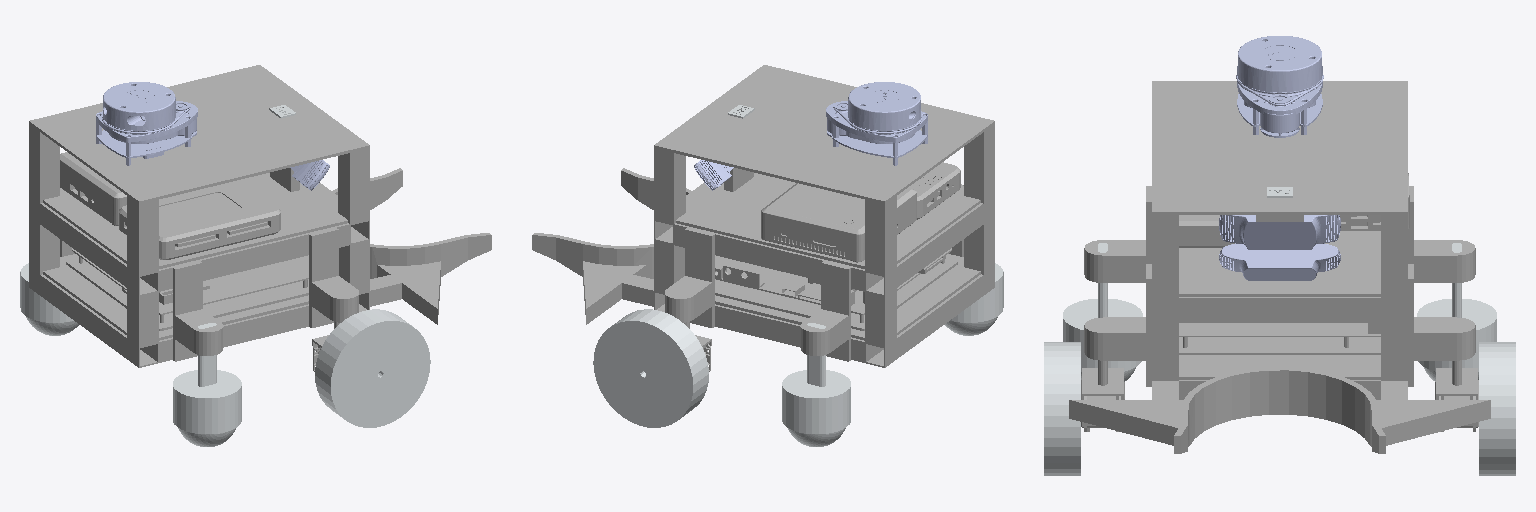
URDF robot description (lide):
<?xml version="1.0" encoding="utf-8"?>
<!-- This URDF was automatically created by SolidWorks to URDF Exporter! Originally created by [author] ([email redacted]) 
     Commit Version: 1.5.1-0-g916b5db  Build Version: 1.5.7152.31018
     For more information, please see http://wiki.ros.org/sw_urdf_exporter -->
<robot
  name="lide">
  <link
    name="base_link">
    <inertial>
      <origin
        xyz="-0.123905080916601 0.0849038994359379 0.0505995438981258"
        rpy="0 0 0" />
      <mass
        value="2.91428056653758" />
      <inertia
        ixx="0.00617409122645341"
        ixy="-7.15450905274627E-07"
        ixz="-1.26542370052897E-05"
        iyy="0.00553452148968598"
        iyz="-3.51329121715535E-07"
        izz="0.0110503775267064" />
    </inertial>
    <visual>
      <origin
        xyz="0 0 0"
        rpy="0 0 0" />
      <geometry>
        <mesh
          filename="package://lide/meshes/base_link.STL" />
      </geometry>
      <material
        name="">
        <color
          rgba="0.752941176470588 0.752941176470588 0.752941176470588 1" />
      </material>
    </visual>
    <collision>
      <origin
        xyz="0 0 0"
        rpy="0 0 0" />
      <geometry>
        <mesh
          filename="package://lide/meshes/base_link.STL" />
      </geometry>
    </collision>
  </link>
  <link
    name="LFS">
    <inertial>
      <origin
        xyz="0.0455604268709419 -0.0546933148939941 0.00297622851896683"
        rpy="0 0 0" />
      <mass
        value="0.0727928435161986" />
      <inertia
        ixx="2.20927876796312E-05"
        ixy="-1.64845302056394E-08"
        ixz="-1.56454773175215E-07"
        iyy="1.62632133784213E-05"
        iyz="2.9641187651118E-09"
        izz="1.80843397531752E-05" />
    </inertial>
    <visual>
      <origin
        xyz="0 0 0"
        rpy="0 0 0" />
      <geometry>
        <mesh
          filename="package://lide/meshes/LFS.STL" />
      </geometry>
      <material
        name="">
        <color
          rgba="0.752941176470588 0.752941176470588 0.752941176470588 1" />
      </material>
    </visual>
    <collision>
      <origin
        xyz="0 0 0"
        rpy="0 0 0" />
      <geometry>
        <mesh
          filename="package://lide/meshes/LFS.STL" />
      </geometry>
    </collision>
  </link>
  <joint
    name="LFS"
    type="prismatic">
    <origin
      xyz="-0.0540436140506676 0.182406433684605 0.0265000000000001"
      rpy="1.5707963267949 0 1.5707963267949" />
    <parent
      link="base_link" />
    <child
      link="LFS" />
    <axis
      xyz="0 1 0" />
    <limit
      lower="0"
      upper="0"
      effort="0"
      velocity="0" />
  </joint>
  <link
    name="LFW">
    <inertial>
      <origin
        xyz="0.015 0 3.46944695195361E-18"
        rpy="0 0 0" />
      <mass
        value="0.767080911081153" />
      <inertia
        ixx="0.00116426102407189"
        ixy="4.45758864315272E-22"
        ixz="-1.82994146746971E-20"
        iyy="0.000639661580367031"
        iyz="-1.35525271560688E-20"
        izz="0.000639661580367032" />
    </inertial>
    <visual>
      <origin
        xyz="0 0 0"
        rpy="0 0 0" />
      <geometry>
        <mesh
          filename="package://lide/meshes/LFW.STL" />
      </geometry>
      <material
        name="">
        <color
          rgba="0.898039215686275 0.917647058823529 0.929411764705882 1" />
      </material>
    </visual>
    <collision>
      <origin
        xyz="0 0 0"
        rpy="0 0 0" />
      <geometry>
        <mesh
          filename="package://lide/meshes/LFW.STL" />
      </geometry>
    </collision>
  </link>
  <joint
    name="LFW"
    type="continuous">
    <origin
      xyz="0.0633463599631527 -0.0698007864376269 0.0150436140506676"
      rpy="-1.62639053095063 0 0" />
    <parent
      link="LFS" />
    <child
      link="LFW" />
    <axis
      xyz="1 0 0" />
    <limit
      effort="3.1"
      velocity="7" />
  </joint>
  <link
    name="RFS">
    <inertial>
      <origin
        xyz="-0.0191828308457407 -0.054724936878019 0.0520056318885905"
        rpy="0 0 0" />
      <mass
        value="0.0727928435161986" />
      <inertia
        ixx="2.20927876796313E-05"
        ixy="-1.6484530205632E-08"
        ixz="1.56454773175213E-07"
        iyy="1.62632133784213E-05"
        iyz="-2.96411876510424E-09"
        izz="1.80843397531752E-05" />
    </inertial>
    <visual>
      <origin
        xyz="0 0 0"
        rpy="0 0 0" />
      <geometry>
        <mesh
          filename="package://lide/meshes/RFS.STL" />
      </geometry>
      <material
        name="">
        <color
          rgba="0.752941176470588 0.752941176470588 0.752941176470588 1" />
      </material>
    </visual>
    <collision>
      <origin
        xyz="0 0 0"
        rpy="0 0 0" />
      <geometry>
        <mesh
          filename="package://lide/meshes/RFS.STL" />
      </geometry>
    </collision>
  </link>
  <joint
    name="RFS"
    type="prismatic">
    <origin
      xyz="-0.103073017420291 -0.0427840297098062 0.0265"
      rpy="1.5707963267949 0 1.5707963267949" />
    <parent
      link="base_link" />
    <child
      link="RFS" />
    <axis
      xyz="0 1 0" />
    <limit
      lower="0"
      upper="0"
      effort="0"
      velocity="0" />
  </joint>
  <link
    name="RFW">
    <inertial>
      <origin
        xyz="-0.015 0 0"
        rpy="0 0 0" />
      <mass
        value="0.767080911081152" />
      <inertia
        ixx="0.00116426102407189"
        ixy="-1.2315168370675E-36"
        ixz="4.60638074444741E-39"
        iyy="0.000639661580367031"
        iyz="8.00462841683581E-39"
        izz="0.000639661580367031" />
    </inertial>
    <visual>
      <origin
        xyz="0 0 0"
        rpy="0 0 0" />
      <geometry>
        <mesh
          filename="package://lide/meshes/RFW.STL" />
      </geometry>
      <material
        name="">
        <color
          rgba="0.898039215686275 0.917647058823529 0.929411764705882 1" />
      </material>
    </visual>
    <collision>
      <origin
        xyz="0 0 0"
        rpy="0 0 0" />
      <geometry>
        <mesh
          filename="package://lide/meshes/RFW.STL" />
      </geometry>
    </collision>
  </link>
  <joint
    name="RFW"
    type="continuous">
    <origin
      xyz="-0.0369687639379516 -0.0697992135623731 0.0640730174202912"
      rpy="0 0 0" />
    <parent
      link="RFS" />
    <child
      link="RFW" />
    <axis
      xyz="1 0 0" />
    <limit
      effort="3.1"
      velocity="7" />
  </joint>
  <link
    name="LBS">
    <inertial>
      <origin
        xyz="-4.7988246709707E-10 -0.0360357103914947 -1.16815018769145E-09"
        rpy="0 0 0" />
      <mass
        value="0.083535872081433" />
      <inertia
        ixx="7.72968060896301E-05"
        ixy="-8.60478073467301E-13"
        ixz="1.40586674043926E-13"
        iyy="5.13820931926883E-05"
        iyz="-5.06559896269576E-12"
        izz="7.73952626484254E-05" />
    </inertial>
    <visual>
      <origin
        xyz="0 0 0"
        rpy="0 0 0" />
      <geometry>
        <mesh
          filename="package://lide/meshes/LBS.STL" />
      </geometry>
      <material
        name="">
        <color
          rgba="0.898039215686275 0.917647058823529 0.929411764705882 1" />
      </material>
    </visual>
    <collision>
      <origin
        xyz="0 0 0"
        rpy="0 0 0" />
      <geometry>
        <mesh
          filename="package://lide/meshes/LBS.STL" />
      </geometry>
    </collision>
  </link>
  <joint
    name="LBS"
    type="prismatic">
    <origin
      xyz="-0.201999999999999 0.228002793647758 0"
      rpy="1.5707963267949 0 1.5707963267949" />
    <parent
      link="base_link" />
    <child
      link="LBS" />
    <axis
      xyz="0 1 0" />
    <limit
      lower="0"
      upper="0"
      effort="0"
      velocity="0" />
  </joint>
  <link
    name="LBW">
    <inertial>
      <origin
        xyz="0 5.55111512312578E-17 0"
        rpy="0 0 0" />
      <mass
        value="0.300793834102321" />
      <inertia
        ixx="0.000108556494727528"
        ixy="1.72053926402305E-55"
        ixz="1.86282862584916E-40"
        iyy="0.000109910066980988"
        iyz="-7.74861998833051E-40"
        izz="0.000108556494727528" />
    </inertial>
    <visual>
      <origin
        xyz="0 0 0"
        rpy="0 0 0" />
      <geometry>
        <mesh
          filename="package://lide/meshes/LBW.STL" />
      </geometry>
      <material
        name="">
        <color
          rgba="0.898039215686275 0.917647058823529 0.929411764705882 1" />
      </material>
    </visual>
    <collision>
      <origin
        xyz="0 0 0"
        rpy="0 0 0" />
      <geometry>
        <mesh
          filename="package://lide/meshes/LBW.STL" />
      </geometry>
    </collision>
  </link>
  <joint
    name="LBW"
    type="revolute">
    <origin
      xyz="0 -0.0683 0"
      rpy="3.1416 0 1.5708" />
    <parent
      link="LBS" />
    <child
      link="LBW" />
    <axis
      xyz="0 1 0" />
    <limit
      lower="0"
      upper="0"
      effort="0"
      velocity="0" />
    <dynamics
      damping="0.001" />
  </joint>
  <link
    name="RBS">
    <inertial>
      <origin
        xyz="-4.79882529547115E-10 -0.0360357103914948 -1.16815021544703E-09"
        rpy="0 0 0" />
      <mass
        value="0.083535872081433" />
      <inertia
        ixx="7.72968060896302E-05"
        ixy="-8.6047810845422E-13"
        ixz="1.40586703451147E-13"
        iyy="5.13820931926882E-05"
        iyz="-5.06559895603098E-12"
        izz="7.73952626484253E-05" />
    </inertial>
    <visual>
      <origin
        xyz="0 0 0"
        rpy="0 0 0" />
      <geometry>
        <mesh
          filename="package://lide/meshes/RBS.STL" />
      </geometry>
      <material
        name="">
        <color
          rgba="0.898039215686275 0.917647058823529 0.929411764705882 1" />
      </material>
    </visual>
    <collision>
      <origin
        xyz="0 0 0"
        rpy="0 0 0" />
      <geometry>
        <mesh
          filename="package://lide/meshes/RBS.STL" />
      </geometry>
    </collision>
  </link>
  <joint
    name="RBS"
    type="prismatic">
    <origin
      xyz="-0.201999999999999 -0.0620027936477575 0"
      rpy="1.5707963267949 0 1.5707963267949" />
    <parent
      link="base_link" />
    <child
      link="RBS" />
    <axis
      xyz="0 1 0" />
    <limit
      lower="0"
      upper="0"
      effort="0"
      velocity="0" />
  </joint>
  <link
    name="RBW">
    <inertial>
      <origin
        xyz="6.93889390390723E-18 -6.93889390390723E-18 0"
        rpy="0 0 0" />
      <mass
        value="0.300793834102321" />
      <inertia
        ixx="0.000108556494727528"
        ixy="0"
        ixz="2.6460766815662E-40"
        iyy="0.000109910066980988"
        iyz="-7.74861998833051E-40"
        izz="0.000108556494727528" />
    </inertial>
    <visual>
      <origin
        xyz="0 0 0"
        rpy="0 0 0" />
      <geometry>
        <mesh
          filename="package://lide/meshes/RBW.STL" />
      </geometry>
      <material
        name="">
        <color
          rgba="0.898039215686275 0.917647058823529 0.929411764705882 1" />
      </material>
    </visual>
    <collision>
      <origin
        xyz="0 0 0"
        rpy="0 0 0" />
      <geometry>
        <mesh
          filename="package://lide/meshes/RBW.STL" />
      </geometry>
    </collision>
  </link>
  <joint
    name="RBW"
    type="revolute">
    <origin
      xyz="0 -0.0683 0"
      rpy="0 0 -1.5708" />
    <parent
      link="RBS" />
    <child
      link="RBW" />
    <axis
      xyz="0 1 0" />
    <limit
      lower="0"
      upper="0"
      effort="0"
      velocity="0" />
    <dynamics
      damping="0.001" />
  </joint>
  <link
    name="fcam">
    <inertial>
      <origin
        xyz="-0.0115544746517359 -2.64429642848896E-06 0.00129029302682179"
        rpy="0 0 0" />
      <mass
        value="0.0436119957238952" />
      <inertia
        ixx="2.35707061906175E-05"
        ixy="-1.01842273865773E-09"
        ixz="2.17585832536658E-08"
        iyy="4.29479050056035E-06"
        iyz="-8.8501811875969E-10"
        izz="2.21058153511886E-05" />
    </inertial>
    <visual>
      <origin
        xyz="0 0 0"
        rpy="0 0 0" />
      <geometry>
        <mesh
          filename="package://lide/meshes/fcam.STL" />
      </geometry>
      <material
        name="">
        <color
          rgba="0.792156862745098 0.819607843137255 0.933333333333333 1" />
      </material>
    </visual>
    <collision>
      <origin
        xyz="0 0 0"
        rpy="0 0 0" />
      <geometry>
        <mesh
          filename="package://lide/meshes/fcam.STL" />
      </geometry>
    </collision>
  </link>
  <joint
    name="fcam"
    type="fixed">
    <origin
      xyz="-0.0038823 0.083 0.12982"
      rpy="0 0.2618 0" />
    <parent
      link="base_link" />
    <child
      link="fcam" />
    <axis
      xyz="0 0 0" />
  </joint>
  <link
    name="bcam">
    <inertial>
      <origin
        xyz="-0.02010346452991 -2.6435490328991E-06 -0.00725869505663598"
        rpy="0 0 0" />
      <mass
        value="0.0436119949785286" />
      <inertia
        ixx="2.35707056099601E-05"
        ixy="-1.01834758005687E-09"
        ixz="2.17579332532698E-08"
        iyy="4.29479078276665E-06"
        iyz="-8.85484503961574E-10"
        izz="2.21058144654638E-05" />
    </inertial>
    <visual>
      <origin
        xyz="0 0 0"
        rpy="0 0 0" />
      <geometry>
        <mesh
          filename="package://lide/meshes/bcam.STL" />
      </geometry>
      <material
        name="">
        <color
          rgba="0.792156862745098 0.819607843137255 0.933333333333333 1" />
      </material>
    </visual>
    <collision>
      <origin
        xyz="0 0 0"
        rpy="0 0 0" />
      <geometry>
        <mesh
          filename="package://lide/meshes/bcam.STL" />
      </geometry>
    </collision>
  </link>
  <joint
    name="bcam"
    type="fixed">
    <origin
      xyz="0 0.083 0.091232"
      rpy="0 0.7854 0" />
    <parent
      link="base_link" />
    <child
      link="bcam" />
    <axis
      xyz="0 0 0" />
  </joint>
  <link
    name="Lidar">
    <inertial>
      <origin
        xyz="0.0135233595886408 0.000461955982206247 -0.028764885495051"
        rpy="0 0 0" />
      <mass
        value="0.0730845717569496" />
      <inertia
        ixx="1.95808757419765E-05"
        ixy="-1.03933585736234E-07"
        ixz="-4.28391168396099E-07"
        iyy="2.41250079666672E-05"
        iyz="9.42710206434147E-09"
        izz="4.14184516368183E-05" />
    </inertial>
    <visual>
      <origin
        xyz="0 0 0"
        rpy="0 0 0" />
      <geometry>
        <mesh
          filename="package://lide/meshes/Lidar.STL" />
      </geometry>
      <material
        name="">
        <color
          rgba="0.792156862745098 0.819607843137255 0.933333333333333 1" />
      </material>
    </visual>
    <collision>
      <origin
        xyz="0 0 0"
        rpy="0 0 0" />
      <geometry>
        <mesh
          filename="package://lide/meshes/Lidar.STL" />
      </geometry>
    </collision>
  </link>
  <joint
    name="Lidar"
    type="fixed">
    <origin
      xyz="-0.19458 0.082006 0.2065"
      rpy="0 0 0" />
    <parent
      link="base_link" />
    <child
      link="Lidar" />
    <axis
      xyz="0 0 0" />
  </joint>
  <link
    name="imu_link">
    <inertial>
      <origin
        xyz="0.00385022026093959 6.239840080563E-05 -0.00103377575234337"
        rpy="0 0 0" />
      <mass
        value="0.00189180567975737" />
      <inertia
        ixx="7.79431263454135E-08"
        ixy="1.39214190556514E-10"
        ixz="1.54511633252899E-11"
        iyy="4.85473464623125E-08"
        iyz="-6.30099051334897E-11"
        izz="1.25233585370532E-07" />
    </inertial>
    <visual>
      <origin
        xyz="0 0 0"
        rpy="0 0 0" />
      <geometry>
        <mesh
          filename="package://lide/meshes/imu_link.STL" />
      </geometry>
      <material
        name="">
        <color
          rgba="0.898039215686275 0.917647058823529 0.929411764705882 1" />
      </material>
    </visual>
    <collision>
      <origin
        xyz="0 0 0"
        rpy="0 0 0" />
      <geometry>
        <mesh
          filename="package://lide/meshes/imu_link.STL" />
      </geometry>
    </collision>
  </link>
  <joint
    name="imu_link"
    type="fixed">
    <origin
      xyz="-0.039 0.083 0.155"
      rpy="0 0 0" />
    <parent
      link="base_link" />
    <child
      link="imu_link" />
    <axis
      xyz="0 0 0" />
  </joint>
</robot>

--- Render facts (derived) ---
The picture shows the robot from 3 angles, left to right: view 1: azimuth 30°, elevation 25°; view 2: azimuth 150°, elevation 25°; view 3: azimuth 270°, elevation 25°; orthographic projection.
Robot: lide — 13 links, 12 joints (2 revolute, 2 continuous, 4 prismatic, 4 fixed); root link base_link; default pose: every joint at zero.
Visible links, largest first — view 1: base_link, RFW, Lidar, RBS, LBS, bcam, RBW, LBW; view 2: base_link, LFW, Lidar, LBS, RBS, bcam, LBW, RBW; view 3: base_link, Lidar, LFW, RFW, fcam, bcam, LBS, RBS, RFS, LFS.
Link boxes in pixels (x1,y1,x2,y2): base_link: [29, 65, 491, 367]; RFW: [315, 309, 430, 427]; Lidar: [96, 82, 197, 165]; RBS: [173, 323, 241, 433]; LBS: [20, 263, 73, 322]; bcam: [290, 160, 329, 190]; RBW: [178, 428, 235, 446]; LBW: [26, 317, 78, 335]; base_link: [532, 65, 994, 367]; LFW: [593, 309, 708, 427]; Lidar: [826, 82, 927, 165]; LBS: [782, 323, 850, 433]; RBS: [950, 263, 1003, 322]; bcam: [694, 160, 733, 190]; LBW: [788, 428, 845, 446]; RBW: [945, 317, 997, 335]; base_link: [1069, 81, 1490, 453]; Lidar: [1236, 36, 1323, 137]; LFW: [1479, 342, 1515, 475]; RFW: [1044, 342, 1080, 475]; fcam: [1219, 215, 1340, 249]; bcam: [1219, 243, 1340, 280]; LBS: [1417, 243, 1496, 371]; RBS: [1063, 243, 1142, 371]; RFS: [1081, 320, 1124, 431]; LFS: [1435, 320, 1478, 431].
Bounding box of the posed robot: 0.398 × 0.3855 × 0.3047 m (x, y, z).
Meshes: 13 distinct files referenced, 13 mesh visuals loaded (13 binary STL).